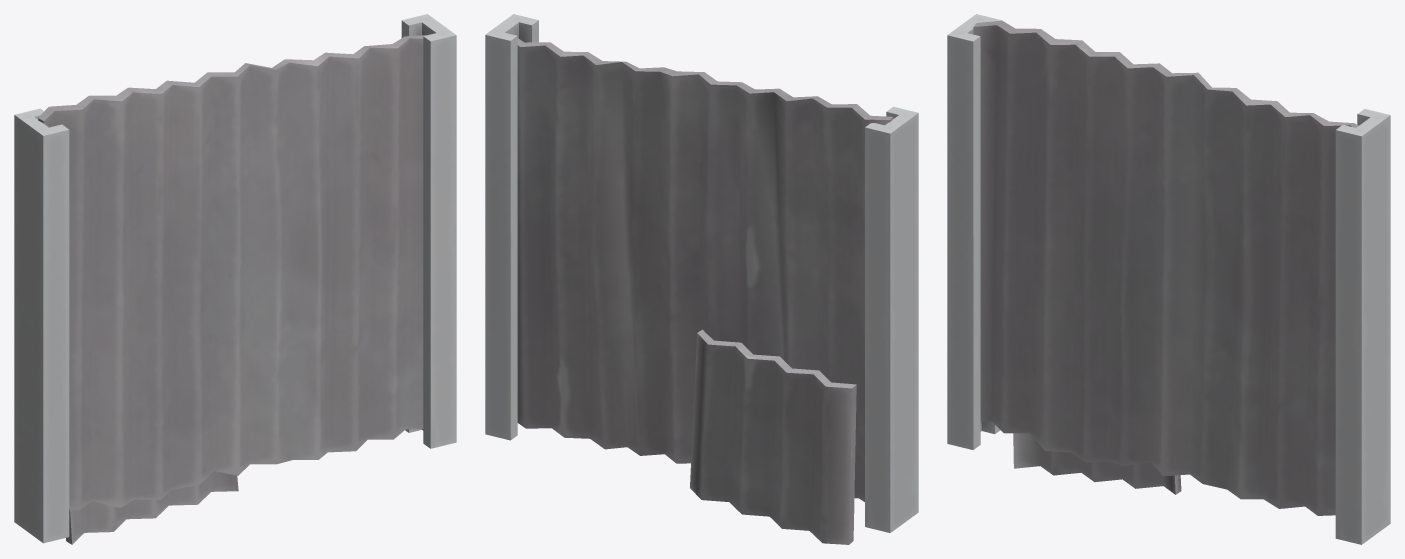
Rendered from Pfb_RoadblockGRP.fbx.
The picture shows the model from 3 angles, left to right: view 1: azimuth 30°, elevation 25°; view 2: azimuth 150°, elevation 25°; view 3: azimuth 330°, elevation 25°; orthographic projection. The views are drawn at different scales.
Visible parts, largest first — view 1: Mat_MetalBoard_01_1, Mat_SteelFrame_01, Mat_MetalBoard_01_3; view 2: Mat_MetalBoard_01_1, Mat_SteelFrame_01, Mat_MetalBoard_01_3; view 3: Mat_MetalBoard_01_1, Mat_SteelFrame_01, Mat_MetalBoard_01_3.
Boxes of the visible parts, x1,y1,x2,y2 form: Mat_MetalBoard_01_1: [38, 35, 425, 510]; Mat_SteelFrame_01: [14, 14, 456, 543]; Mat_MetalBoard_01_3: [66, 471, 238, 544]; Mat_MetalBoard_01_1: [517, 38, 893, 501]; Mat_SteelFrame_01: [485, 14, 918, 532]; Mat_MetalBoard_01_3: [690, 329, 856, 544]; Mat_MetalBoard_01_1: [973, 20, 1358, 515]; Mat_SteelFrame_01: [947, 14, 1390, 544]; Mat_MetalBoard_01_3: [1013, 433, 1181, 494].
Bounding box in the file's own units: 2.14 × 2.18 × 0.3167.
Materials: 3 (3 with a texture image).
